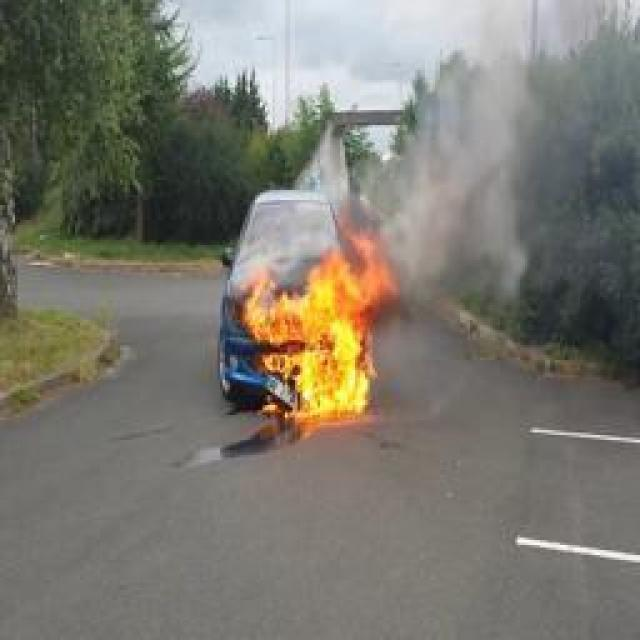Fire: (242, 202, 400, 420)
